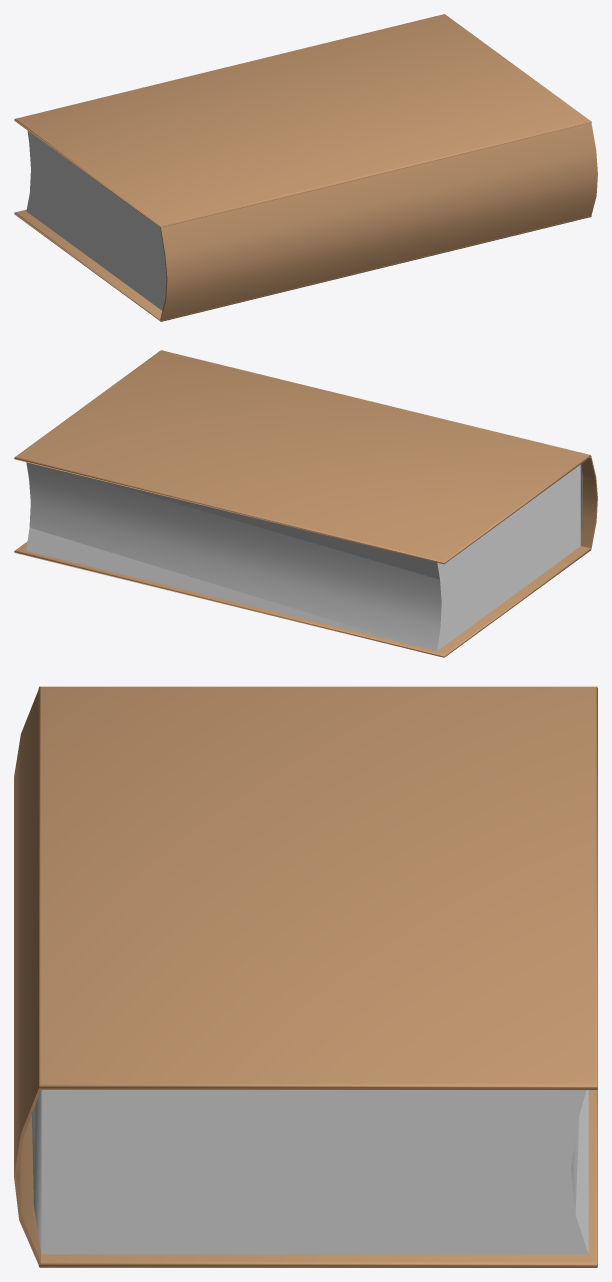
The model's file is earthBook.gltf.
The picture shows the model from 3 angles, top to bottom: view 1: azimuth 30°, elevation 25°; view 2: azimuth 150°, elevation 25°; view 3: azimuth 270°, elevation 25°; orthographic projection. The views are drawn at different scales.
Parts seen in each view (by area): view 1: face_avant, tranche, pages, face_arriere; view 2: face_avant, pages, face_arriere, tranche; view 3: face_avant, pages, tranche, face_arriere.
Part boxes in pixels (left/top/right/bottom): face_avant: left=14, top=14, right=591, bottom=227; tranche: left=160, top=123, right=597, bottom=321; pages: left=26, top=131, right=167, bottom=310; face_arriere: left=14, top=209, right=591, bottom=321; face_avant: left=14, top=350, right=590, bottom=564; pages: left=26, top=462, right=582, bottom=650; face_arriere: left=14, top=541, right=590, bottom=657; tranche: left=581, top=457, right=596, bottom=548; face_avant: left=38, top=686, right=597, bottom=1089; pages: left=32, top=1090, right=588, bottom=1254; tranche: left=14, top=690, right=40, bottom=1264; face_arriere: left=38, top=1089, right=597, bottom=1267.
Bounding box in the file's own units: 0.2312 × 0.0495 × 0.1426.
